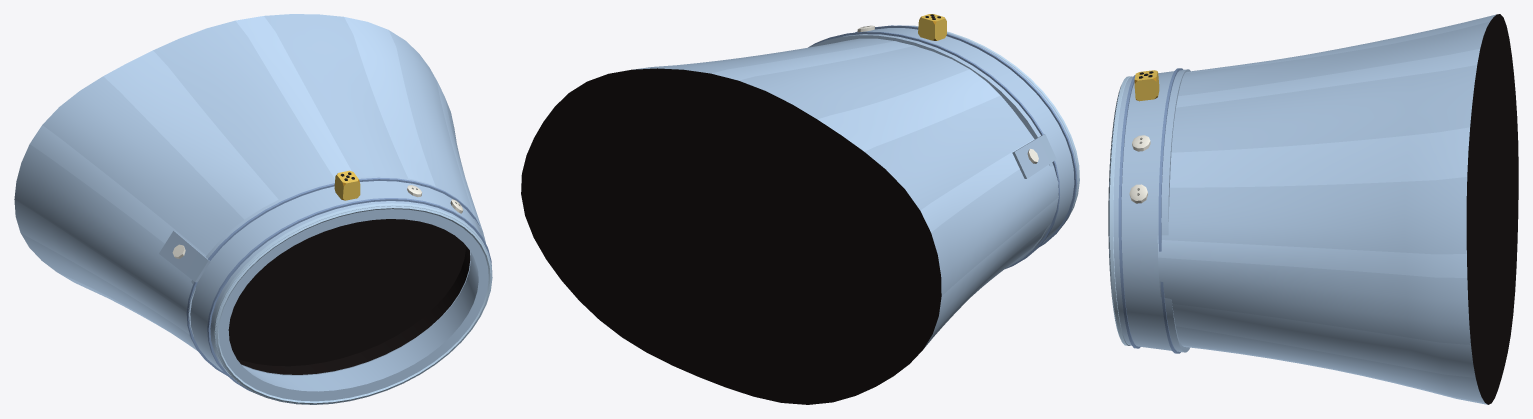
The model's file is Sleeve_Shirt.fbx.
The picture shows the model from 3 angles, left to right: view 1: azimuth 30°, elevation 25°; view 2: azimuth 150°, elevation 25°; view 3: azimuth 270°, elevation 25°; orthographic projection. The views are drawn at different scales.
Parts seen in each view (by area): view 1: Sleeve_Shirt; view 2: Sleeve_Shirt; view 3: Sleeve_Shirt.
Boxes of the visible parts, left/top/right/bottom form: Sleeve_Shirt: left=14, top=14, right=492, bottom=404; Sleeve_Shirt: left=521, top=14, right=1079, bottom=404; Sleeve_Shirt: left=1108, top=14, right=1518, bottom=404.
Bounding box in the file's own units: 0.9723 × 0.6305 × 0.7375.
1 material, 1 textured.
